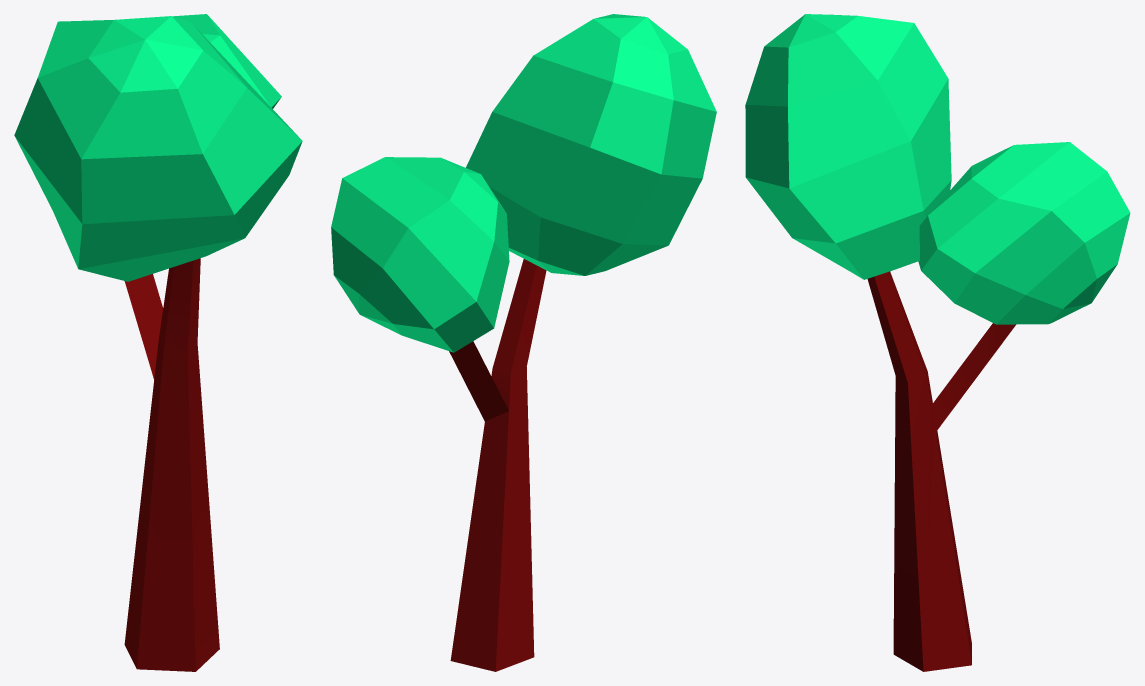
Rendered from Tree3.fbx.
3 renders of one model, left to right at view 1: azimuth 30°, elevation 25°; view 2: azimuth 150°, elevation 25°; view 3: azimuth 270°, elevation 25°, orthographic. The views are drawn at different scales.
Parts seen in each view (by area): view 1: pSphere3; view 2: pSphere3; view 3: pSphere3.
Boxes of the visible parts, x1,y1,x2,y2 form: pSphere3: (14, 14, 302, 671); pSphere3: (331, 14, 716, 671); pSphere3: (745, 14, 1130, 671).
Bounding box in the file's own units: 3.1 × 6.66 × 3.89.
